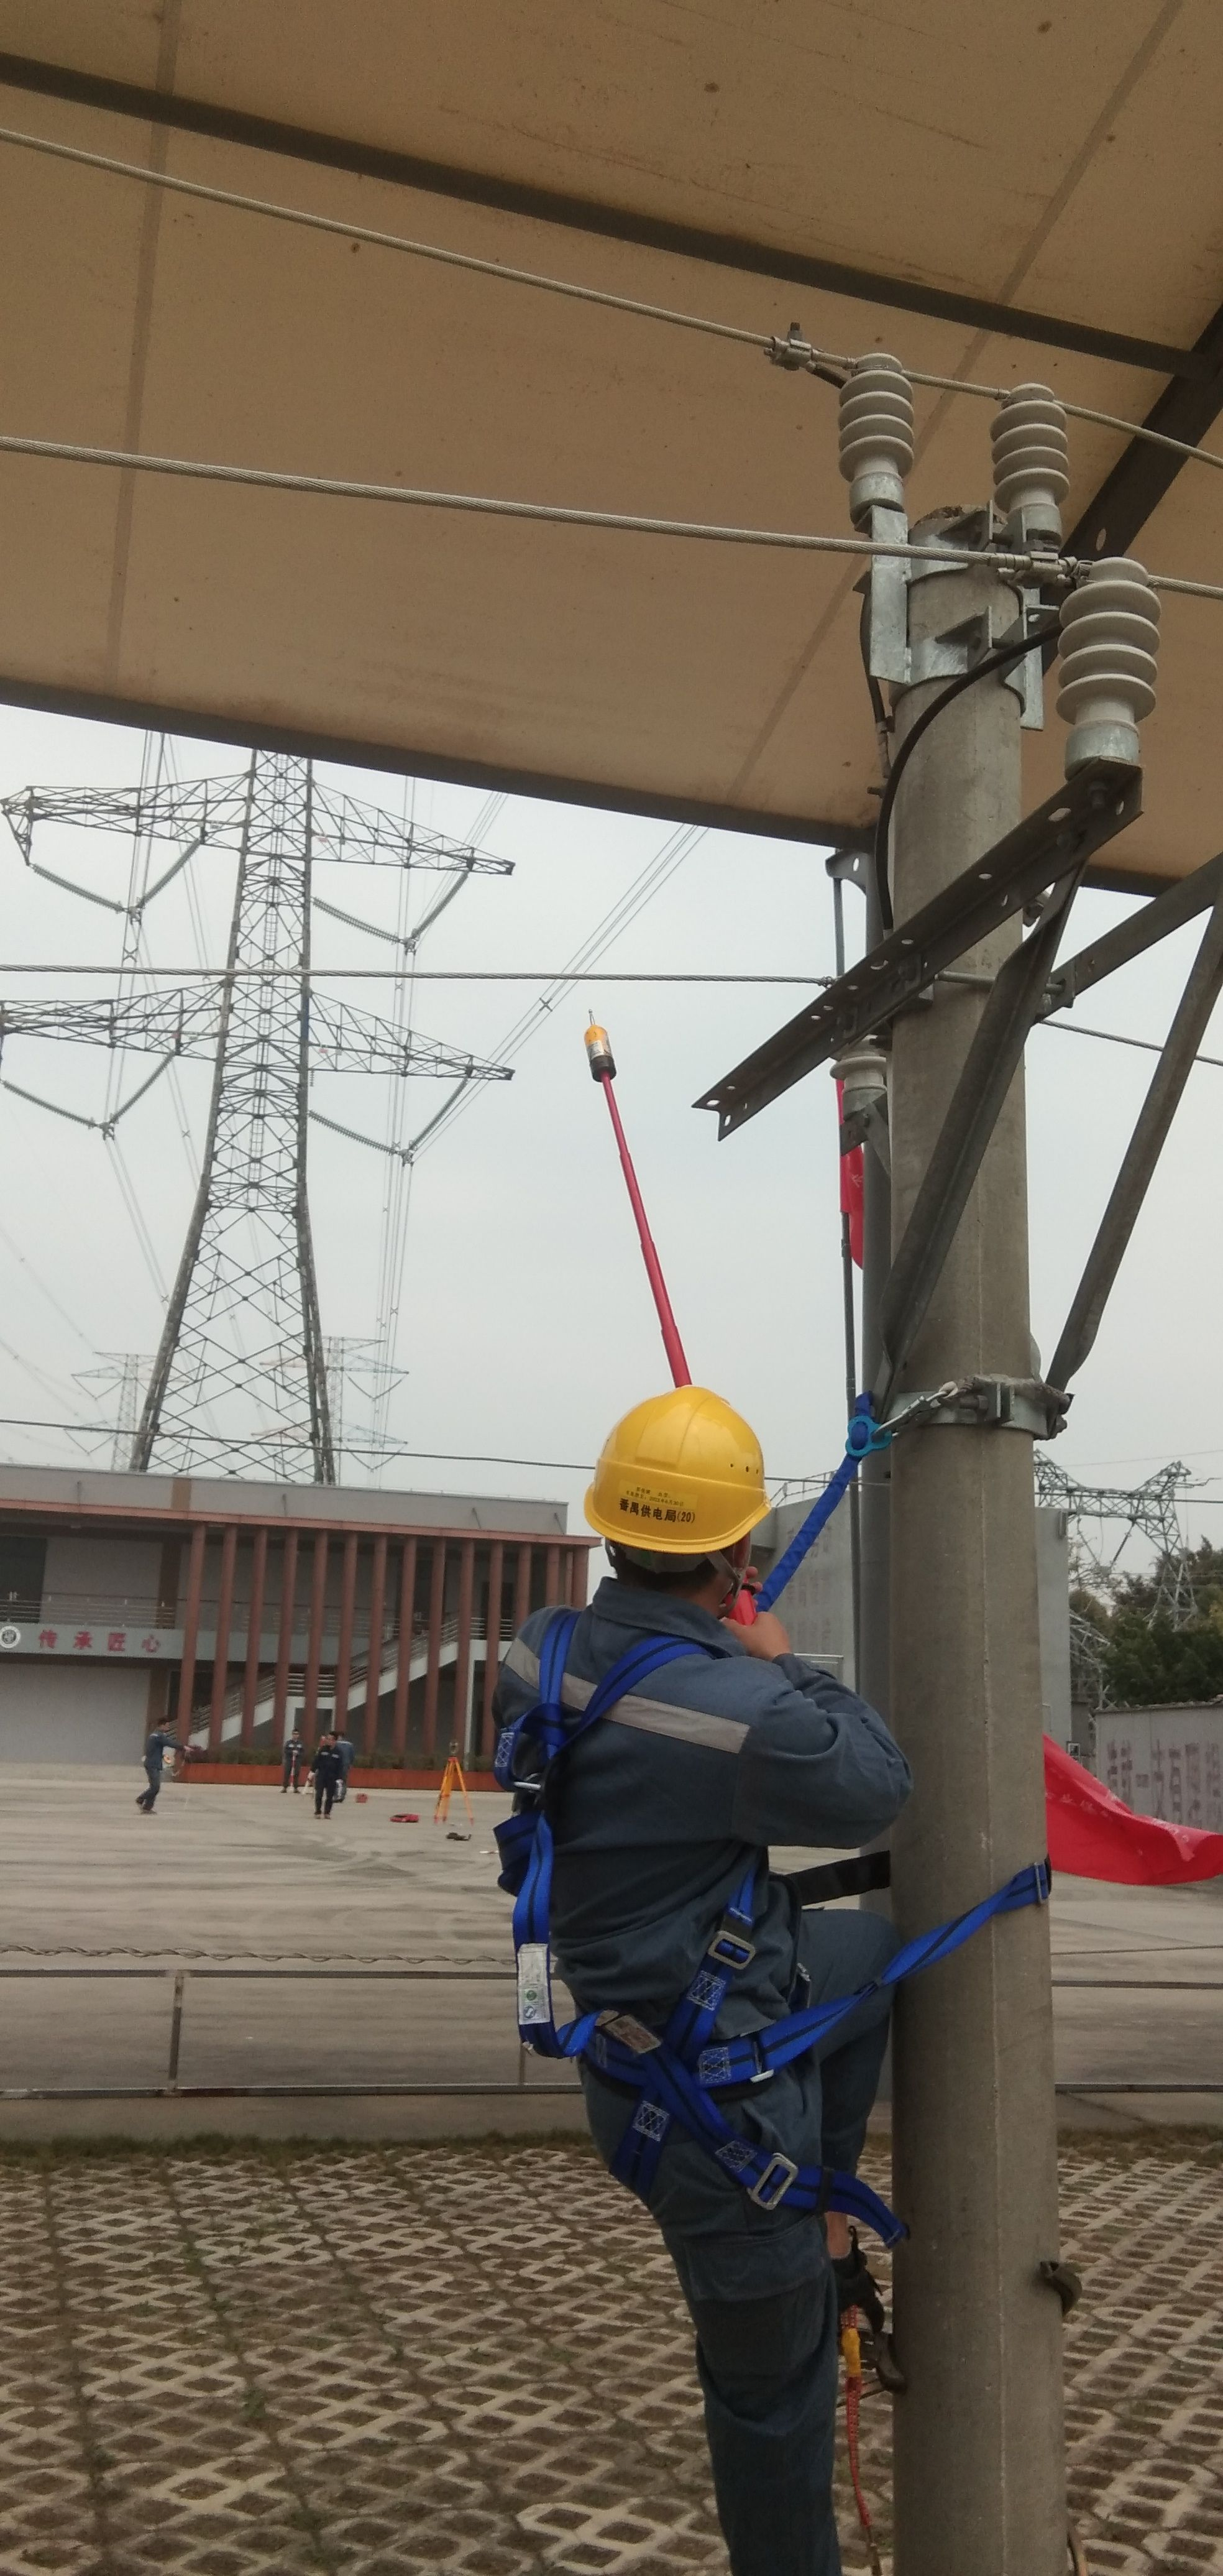downsuit: (599, 2029, 875, 2576)
upsuit: (530, 1630, 849, 2032)
